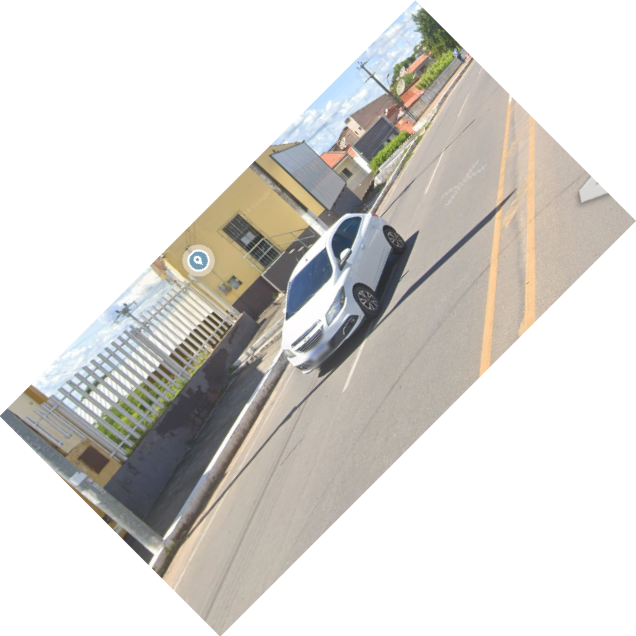car: (279, 209, 412, 382)
